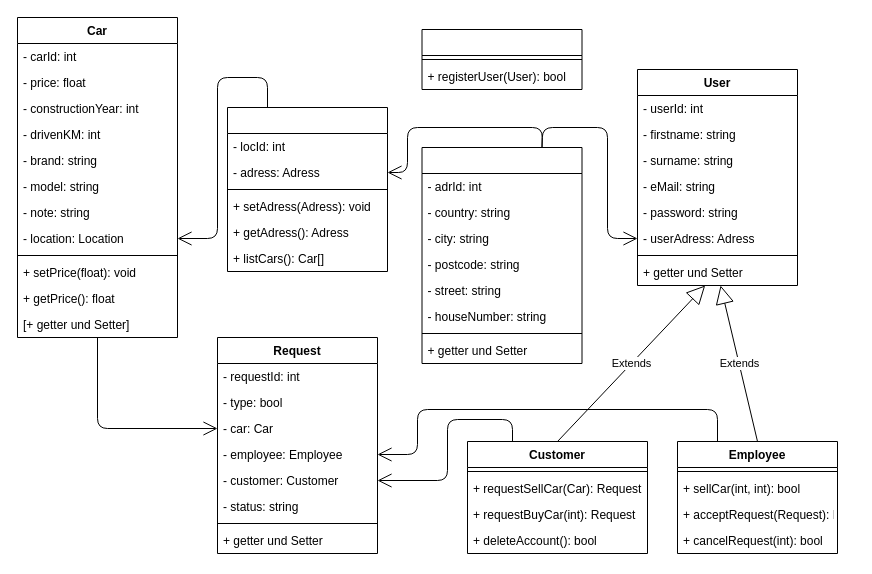
The diagram is 872 pixels wide and 574 high, and some of its shapes have lost their labels. Here are the shapes that lost their labels. From the top down, the box of each, then its label:
(421, 28, 582, 90): Controller
(226, 106, 388, 272): Location
(421, 146, 582, 364): Adress
